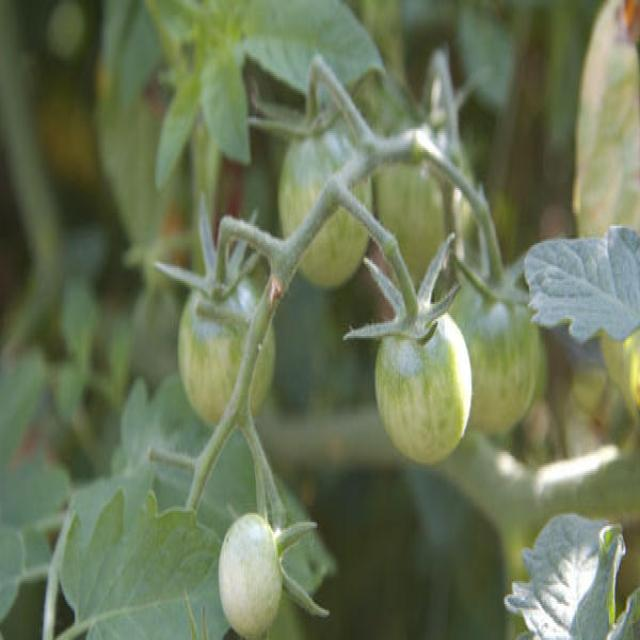yesil: (368, 289, 486, 471), (210, 494, 291, 640)
